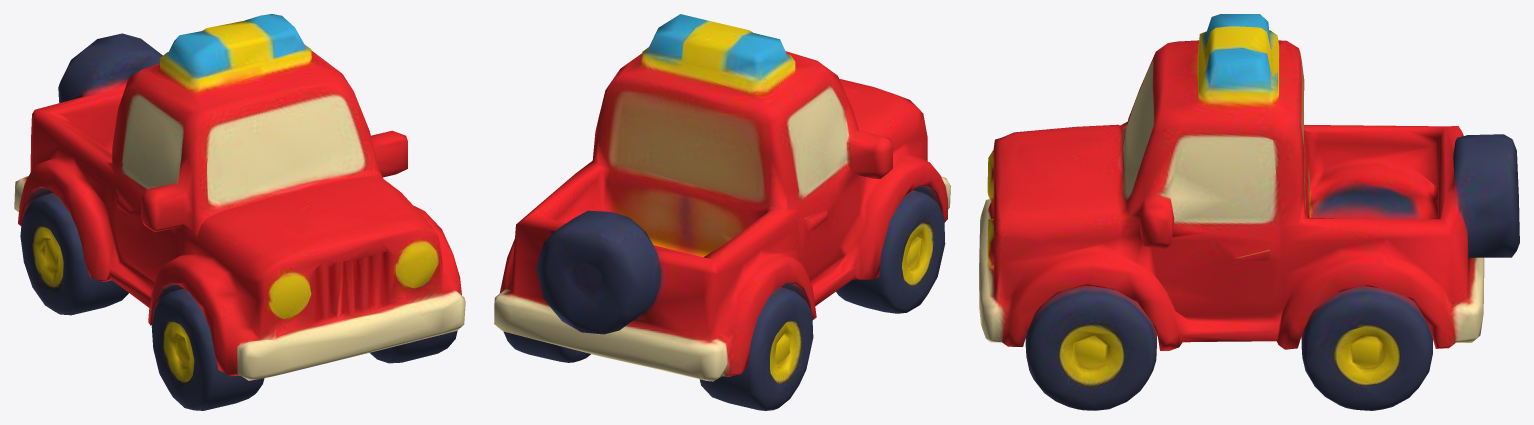
The model's file is jipe.glb.
3 renders of one model, left to right at view 1: azimuth 30°, elevation 25°; view 2: azimuth 150°, elevation 25°; view 3: azimuth 270°, elevation 25°, orthographic. The views are drawn at different scales.
Visible parts, largest first — view 1: tripo_node_5eca2300-d971-4376-925b-7aa2ca428220; view 2: tripo_node_5eca2300-d971-4376-925b-7aa2ca428220; view 3: tripo_node_5eca2300-d971-4376-925b-7aa2ca428220.
Part boxes in pixels (x1,y1,x2,y2): tripo_node_5eca2300-d971-4376-925b-7aa2ca428220: [14, 14, 465, 410]; tripo_node_5eca2300-d971-4376-925b-7aa2ca428220: [494, 14, 950, 410]; tripo_node_5eca2300-d971-4376-925b-7aa2ca428220: [979, 14, 1519, 410].
Size of the model in its own units: 0.5794 by 0.6263 by 0.9807.
Materials: 1 (1 with a texture image).
